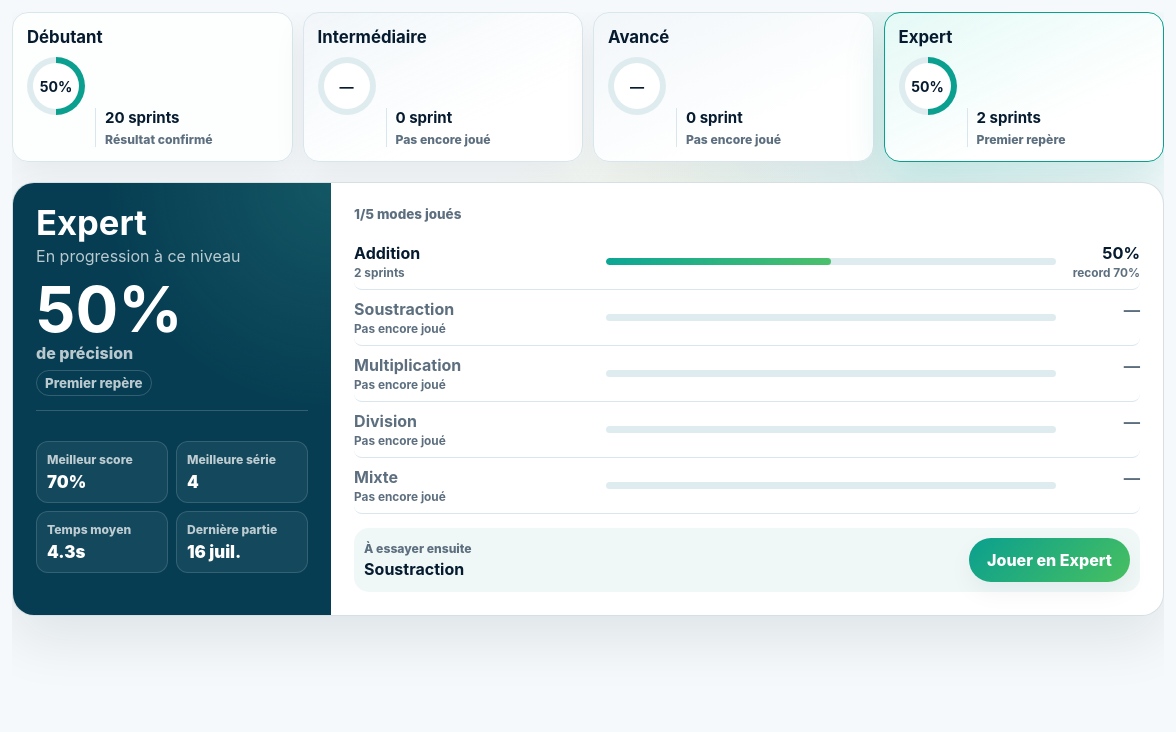
Test: PerformanceCockpit › affiche le détail des opérations du niveau choisi
What coordinates should you click on to do the following:
click the button "Débutant 50% 20 sprints Résultat confirmé"
I would click on:
 (65, 37)
Its box is [12,12,292,162].
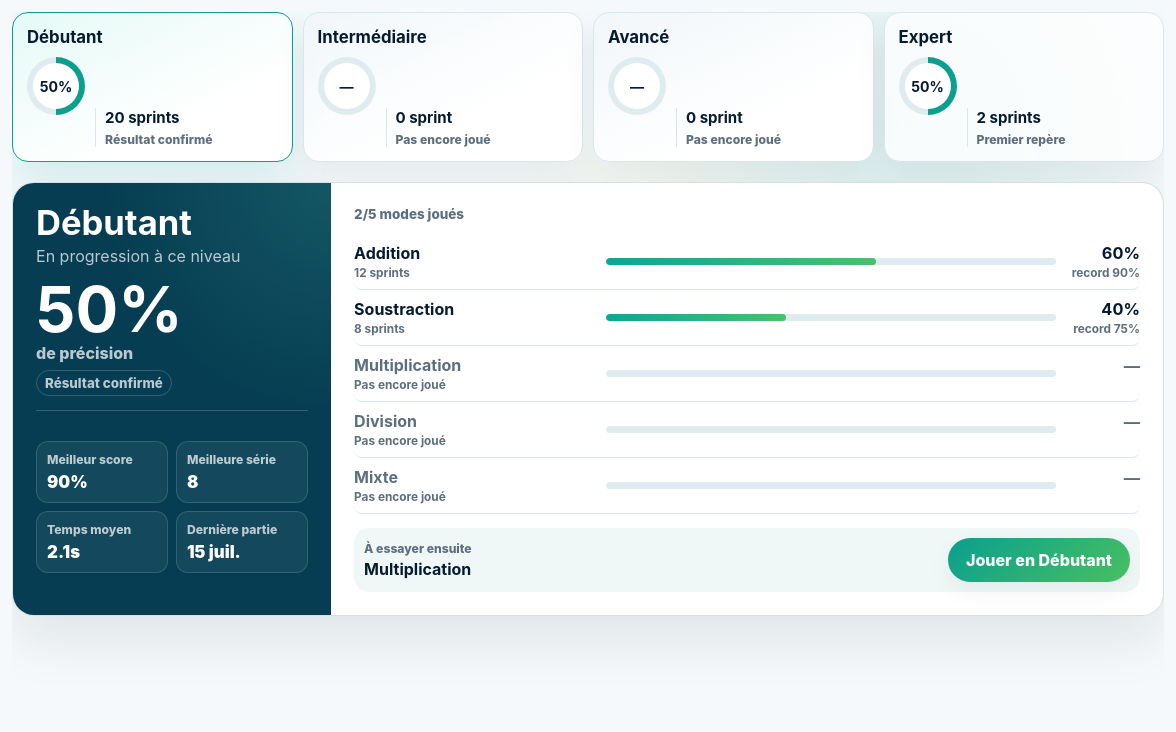
expect the heading "Débutant" is shown: met, box [36,202,192,243]
expect the text "60%" is shown: met, box [1102,243,1140,263]
expect the text "12 sprints" is shown: met, box [354,266,410,280]
